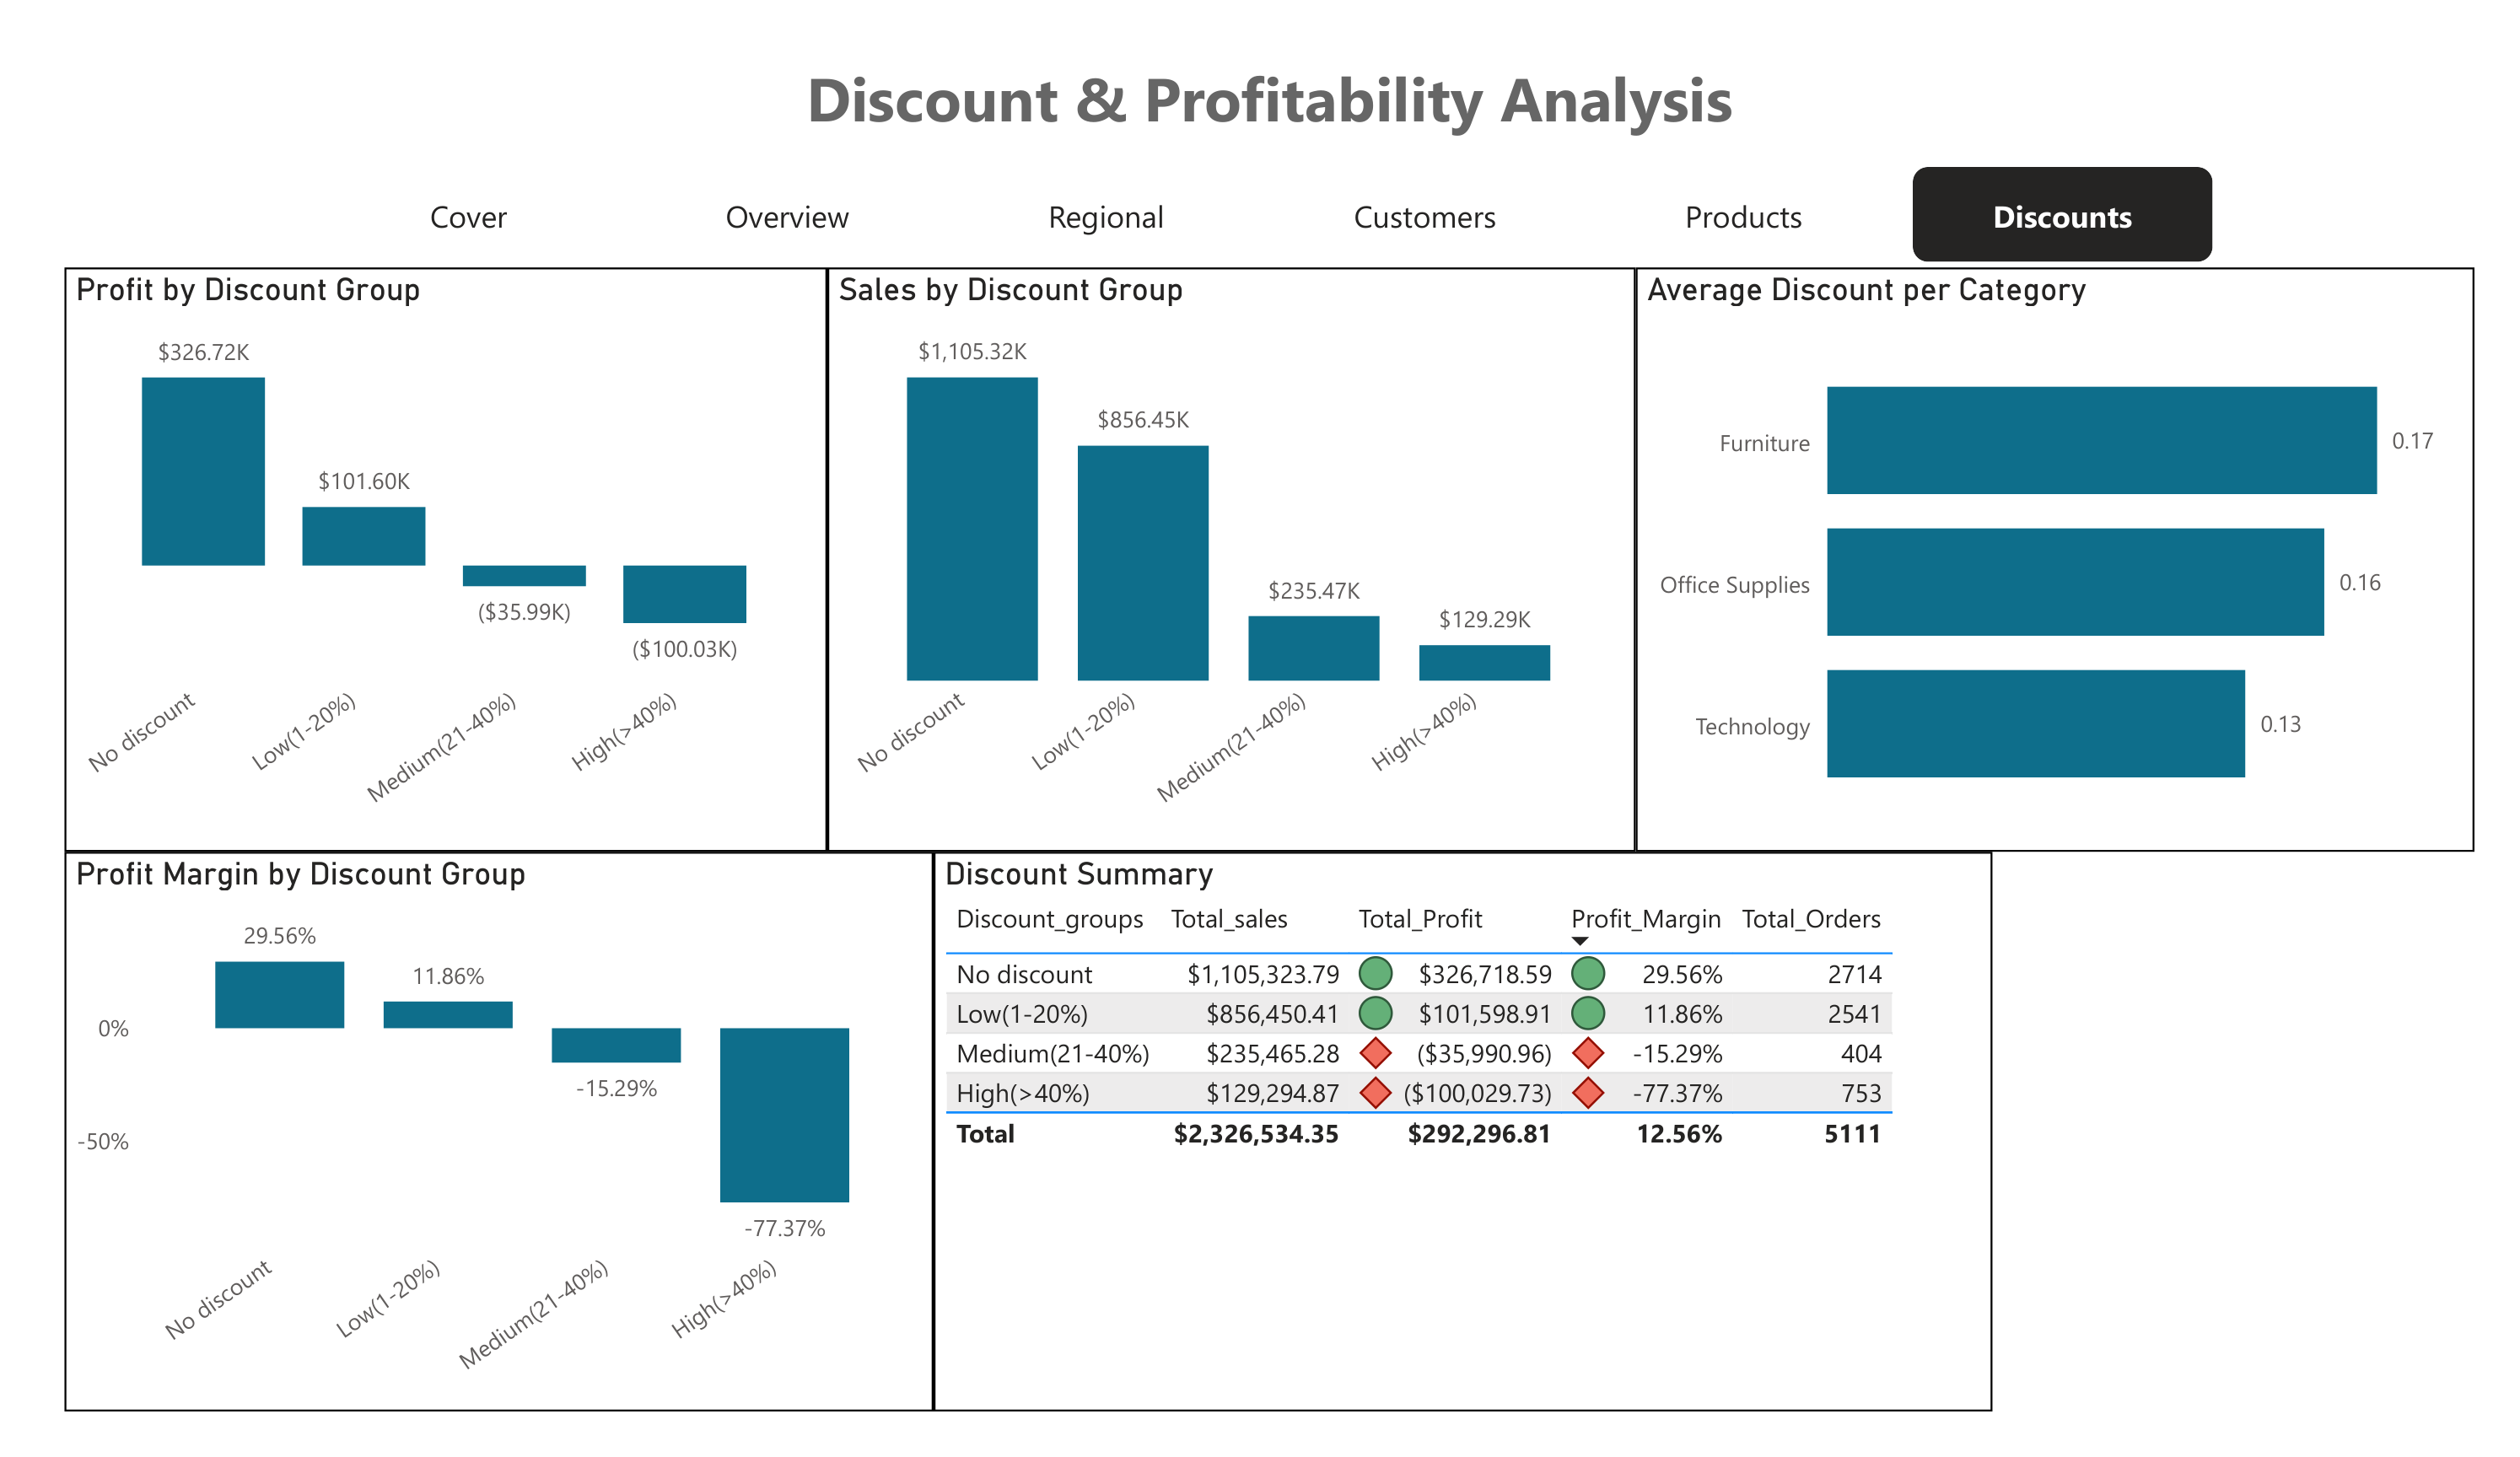

Layout of this report page (visuals, bound fields, positions):
{"tool":"powerbi","page":{"name":"Discounts","canvas":[1280,720],"ordinal":5},"visuals":[{"type":"textbox","box":[9.6,0,1270.7,71.4],"z":0},{"type":"clusteredColumnChart","title":"Profit by Discount Group","fields":{"Category":["orders.Discount_groups"],"Y":["KPI_Measures.Total_Profit"]},"box":[9.6,116.6,402.1,308.7],"z":1000},{"type":"clusteredColumnChart","title":"Sales by Discount Group","fields":{"Category":["orders.Discount_groups"],"Y":["KPI_Measures.Total_sales"]},"box":[411.7,116.6,426.8,308.7],"z":2000},{"type":"clusteredBarChart","title":"Average Discount per Category","fields":{"Category":["orders.Category"],"Y":["Avg(orders.Discount)"]},"box":[838.4,116.6,441.9,308.7],"z":3000},{"type":"clusteredColumnChart","title":"Profit Margin by Discount Group","fields":{"Category":["orders.Discount_groups"],"Y":["KPI_Measures.Profit_Margin"]},"box":[9.6,425.4,458.3,295],"z":4000},{"type":"tableEx","title":"Discount Summary","fields":{"Values":["orders.Discount_groups","KPI_Measures.Total_sales","KPI_Measures.Total_Profit","KPI_Measures.Profit_Margin","KPI_Measures.Total_Orders"]},"box":[467.9,425.4,558.5,295],"z":5000},{"type":"pageNavigator","box":[144,64,1000,50],"z":6000}]}

Visuals, with their boxes in screenshot pixels (x1, y1, x2, y2), scaled from the page's 1280x720 canvas onto the 2520x1457 screenshot:
textbox: bbox=(19, 0, 2519, 144)
"Profit by Discount Group" clusteredColumnChart: bbox=(19, 236, 810, 861)
"Sales by Discount Group" clusteredColumnChart: bbox=(810, 236, 1650, 861)
"Average Discount per Category" clusteredBarChart: bbox=(1650, 236, 2519, 861)
"Profit Margin by Discount Group" clusteredColumnChart: bbox=(19, 861, 921, 1456)
"Discount Summary" tableEx: bbox=(921, 861, 2021, 1456)
pageNavigator: bbox=(283, 130, 2253, 231)
